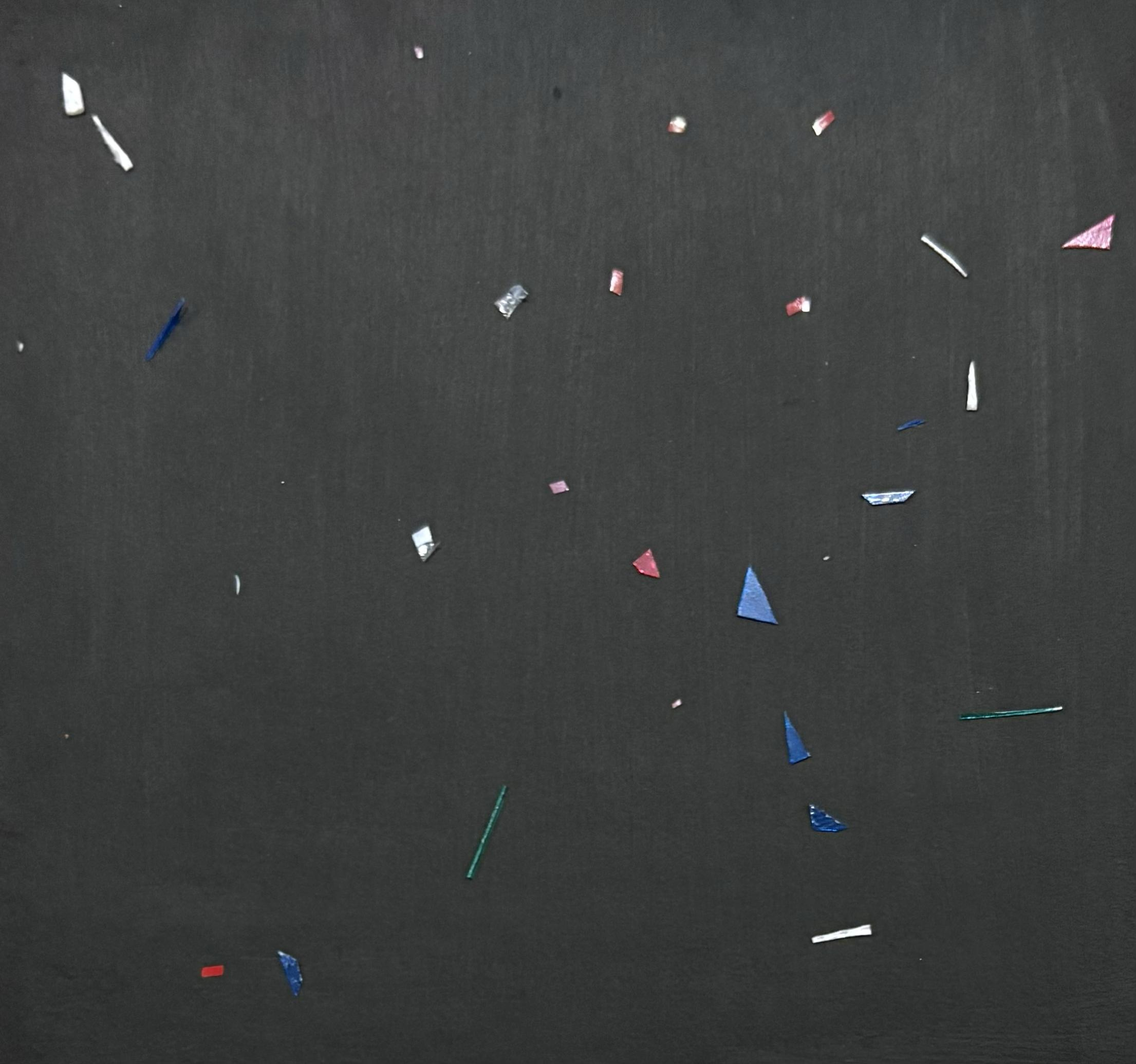Microplastic Particle: (466, 785, 507, 880), (734, 565, 780, 627), (145, 297, 185, 361), (91, 115, 133, 172), (921, 233, 968, 278), (1061, 214, 1114, 249), (783, 712, 811, 764), (959, 706, 1061, 720), (277, 950, 303, 996), (811, 924, 872, 943), (494, 284, 528, 318), (809, 804, 847, 832), (61, 73, 85, 116), (412, 525, 439, 562), (862, 490, 916, 506), (632, 549, 660, 578), (965, 361, 978, 412), (812, 110, 835, 136), (786, 296, 811, 315), (609, 269, 624, 295), (667, 115, 687, 134), (896, 419, 925, 431), (200, 965, 224, 978), (548, 480, 569, 494), (233, 573, 241, 596), (413, 45, 425, 60), (672, 699, 682, 709), (17, 342, 23, 351), (823, 555, 830, 561), (65, 733, 69, 738), (824, 361, 828, 366), (912, 356, 916, 360), (282, 481, 285, 483), (398, 519, 401, 521), (812, 400, 815, 402)
